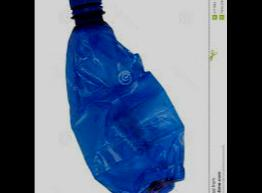Plastic: (63, 0, 191, 192)
